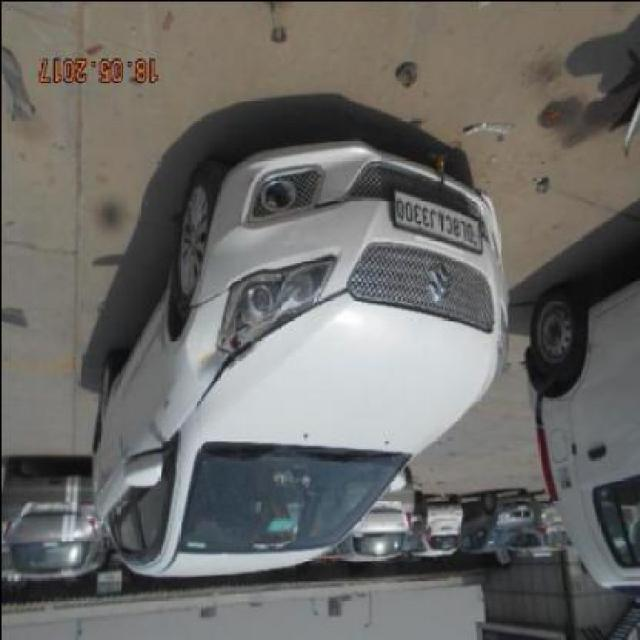damage: (189, 329, 254, 405), (182, 324, 223, 381), (307, 190, 348, 212)
